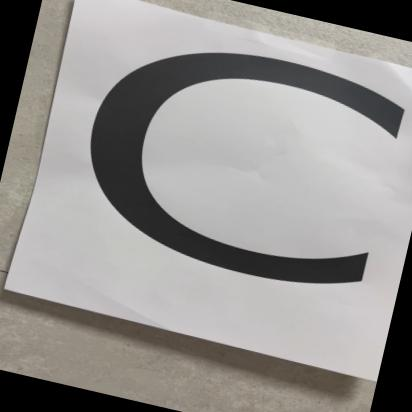seat: (3, 0, 412, 370)
